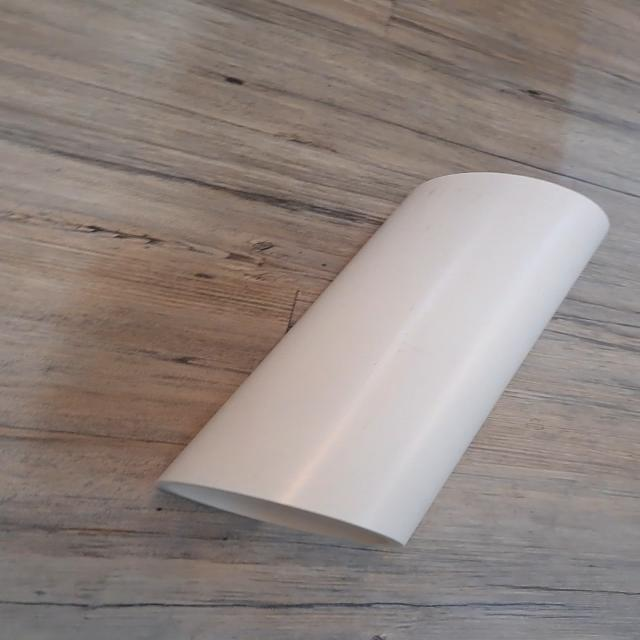CORAL: (143, 167, 622, 561)
